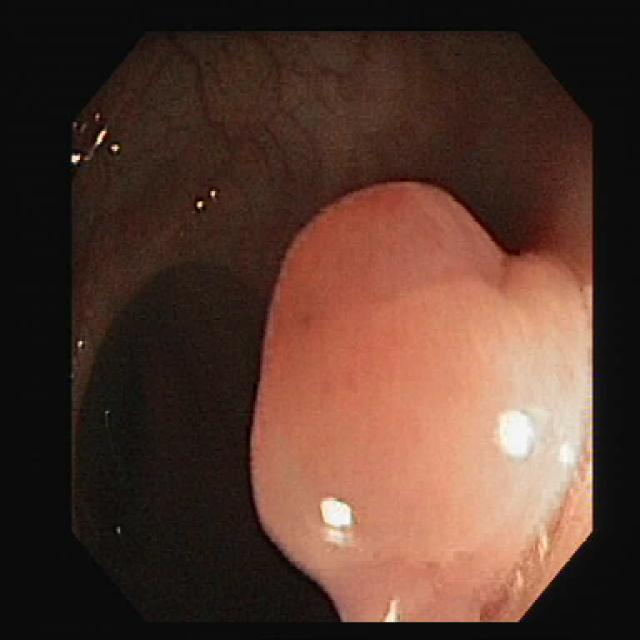tumor: (250, 182, 590, 620)
